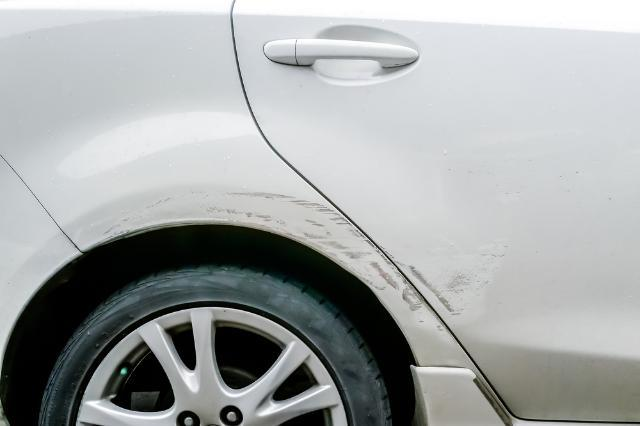scratch: (99, 190, 450, 335), (402, 237, 516, 326)
